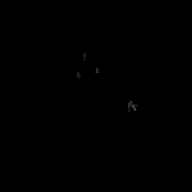v: (73, 49, 100, 77)
